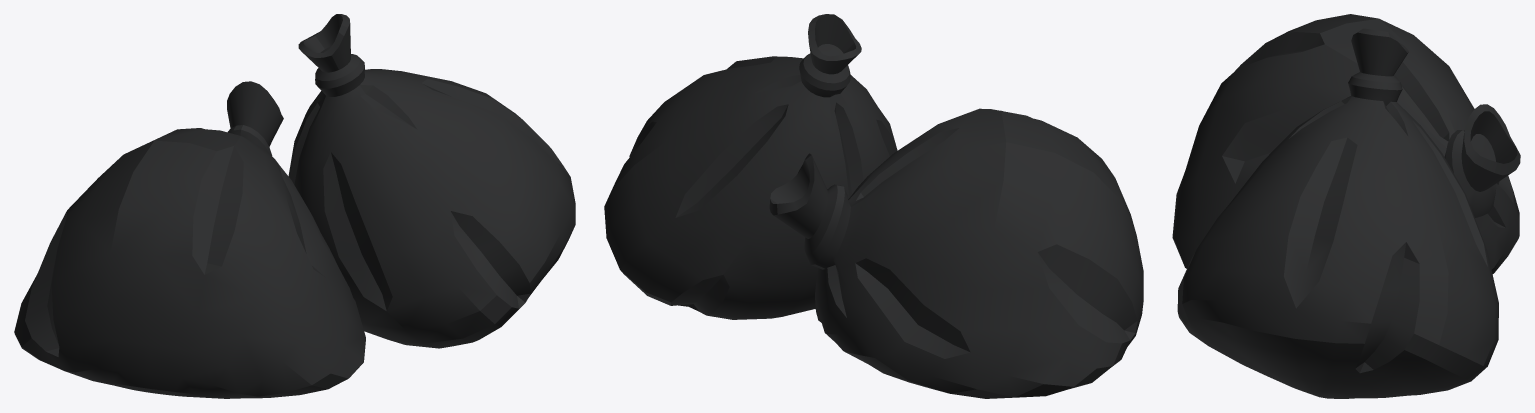
The model's file is trash_bags.glb.
3 views of the same model, side by side, from view 1: azimuth 30°, elevation 25°; view 2: azimuth 150°, elevation 25°; view 3: azimuth 270°, elevation 25° (orthographic). The views are drawn at different scales.
Parts seen in each view (by area): view 1: TrashBag_2; view 2: TrashBag_2; view 3: TrashBag_2.
Boxes of the visible parts, x1=… form: TrashBag_2: x1=14, y1=14, x2=575, y2=398; TrashBag_2: x1=604, y1=14, x2=1143, y2=398; TrashBag_2: x1=1172, y1=14, x2=1520, y2=398.
Size of the model in its own units: 0.9061 by 0.53 by 0.5243.
Materials: 1 (1 with a texture image).
